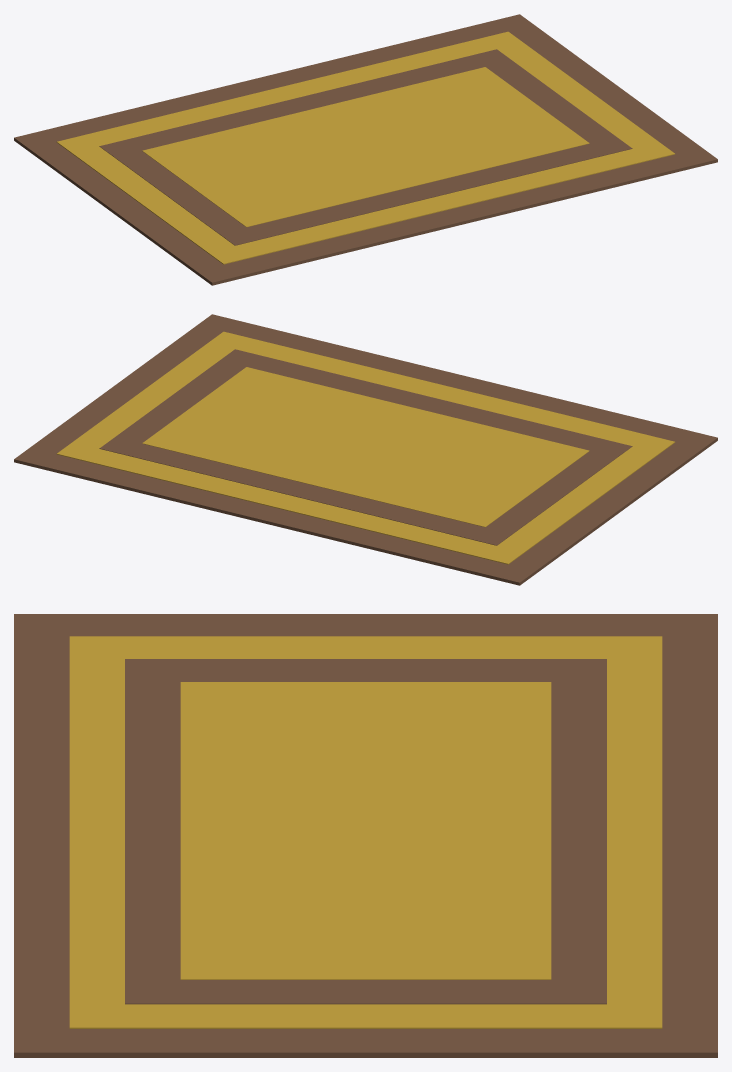
Rendered from GH_Rug_04.glb.
3 views of the same model, one above another, from view 1: azimuth 30°, elevation 25°; view 2: azimuth 150°, elevation 25°; view 3: azimuth 270°, elevation 25° (orthographic). The views are drawn at different scales.
Visible parts, largest first — view 1: GH_Rug_04; view 2: GH_Rug_04; view 3: GH_Rug_04.
Part boxes in pixels (bbox=[...]): GH_Rug_04: bbox=[14, 14, 717, 285]; GH_Rug_04: bbox=[14, 314, 717, 585]; GH_Rug_04: bbox=[14, 614, 717, 1057].
Size of the model in its own units: 2.8 by 0.024 by 1.9.
1 material, 1 textured.
